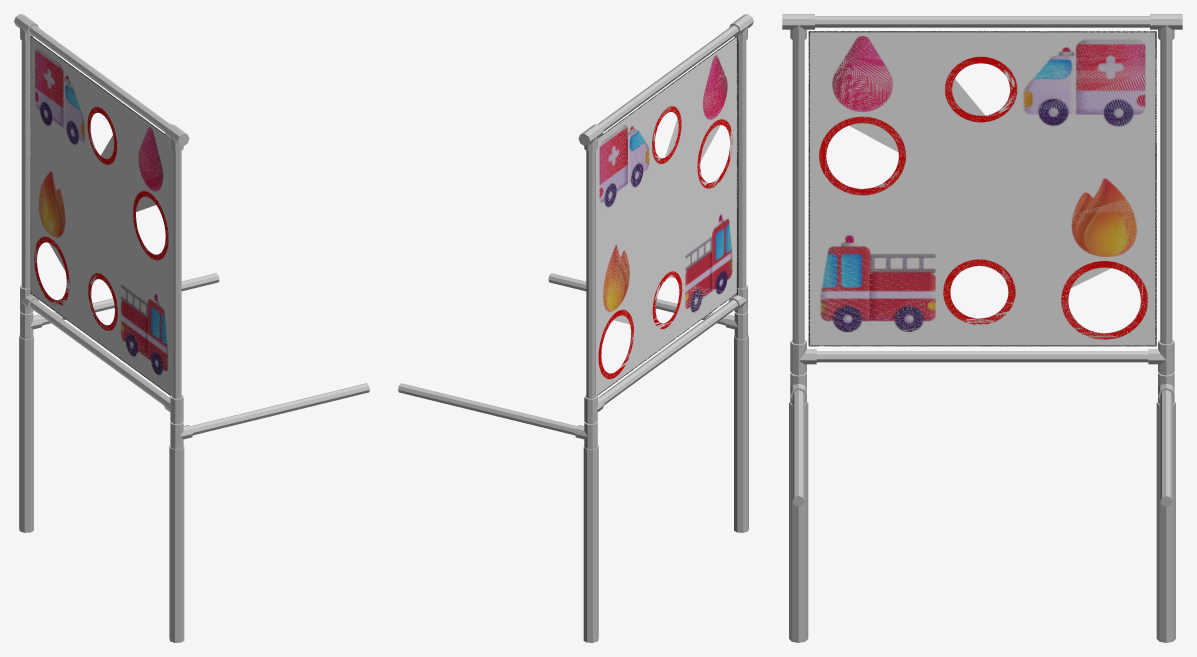
File: torpedoMapping_2026_v2.obj
3 views of the same model, side by side, from view 1: azimuth 30°, elevation 25°; view 2: azimuth 150°, elevation 25°; view 3: azimuth 270°, elevation 25° (orthographic). The views are drawn at different scales.
Parts seen in each view (by area): view 1: Board_V2, Cylinder.006, Cylinder.005, Cylinder.003, Cylinder.015, Cylinder.001; view 2: Board_V2, Cylinder.006, Cylinder.003, Cylinder.005, Cylinder.001, Cylinder.015; view 3: Board_V2, Cylinder.006, Cylinder.005, Cylinder.003, Cylinder.015, Cylinder.001.
Boxes of the visible parts, bbox=[...] form: Board_V2: bbox=[30, 36, 171, 395]; Cylinder.006: bbox=[14, 14, 189, 423]; Cylinder.005: bbox=[169, 445, 184, 642]; Cylinder.003: bbox=[19, 335, 33, 532]; Cylinder.015: bbox=[170, 383, 369, 449]; Cylinder.001: bbox=[20, 273, 219, 339]; Board_V2: bbox=[596, 36, 737, 395]; Cylinder.006: bbox=[578, 14, 753, 423]; Cylinder.003: bbox=[583, 445, 598, 642]; Cylinder.005: bbox=[734, 335, 748, 532]; Cylinder.001: bbox=[398, 383, 597, 449]; Cylinder.015: bbox=[548, 273, 747, 339]; Board_V2: bbox=[808, 31, 1156, 346]; Cylinder.006: bbox=[782, 14, 1182, 374]; Cylinder.005: bbox=[789, 402, 808, 642]; Cylinder.003: bbox=[1156, 402, 1175, 642]; Cylinder.015: bbox=[790, 372, 806, 506]; Cylinder.001: bbox=[1158, 372, 1174, 506].
Size of the model in its own units: 0.4882 by 1.21 by 0.7017.
2 materials, 1 textured.
